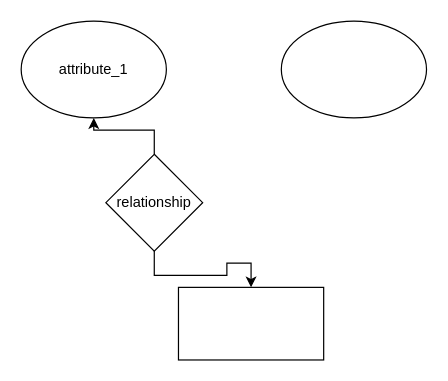
Some shapes in this 448 by 381 pixel diagram are drawn without their labels. The box of each missing label's shape, as (x1, y1, x2, y2) in pixels:
attribute_2: (280, 20, 427, 118)
Entity: (177, 286, 324, 360)
